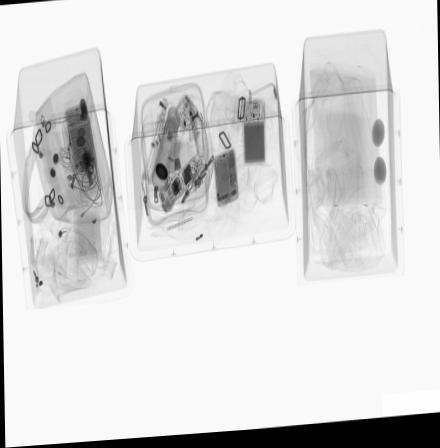Powerbank: (239, 101, 265, 169)
